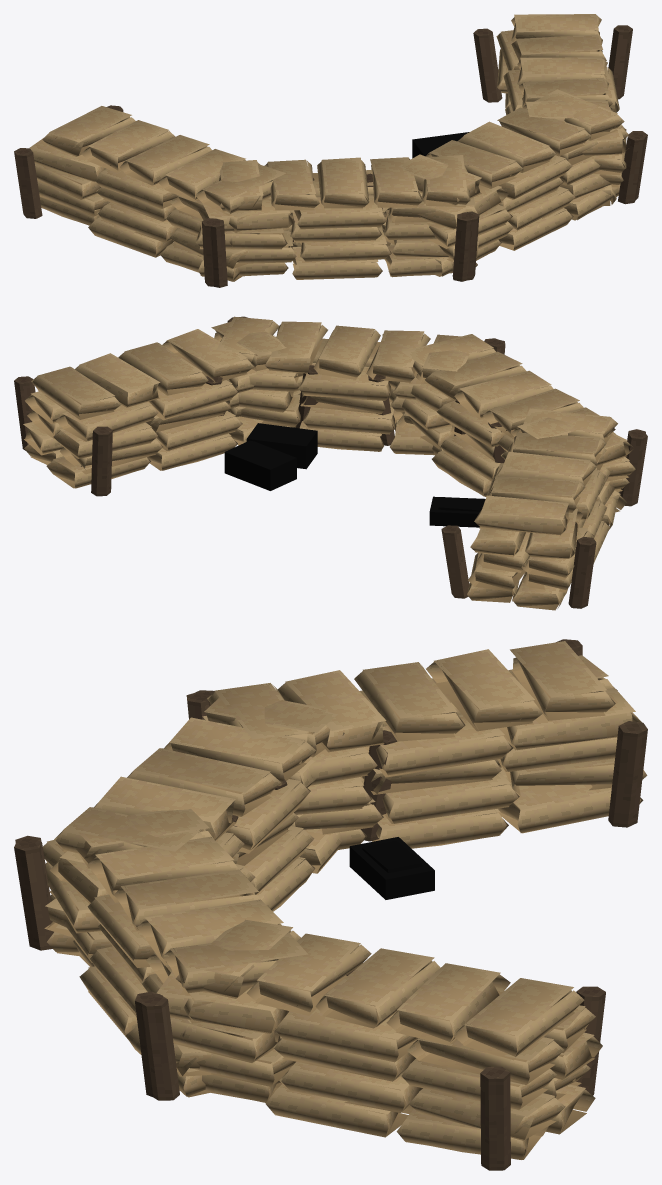
Rendered from mg_nest_sandbag.glb.
3 views of the same model, one above another, from view 1: azimuth 30°, elevation 25°; view 2: azimuth 150°, elevation 25°; view 3: azimuth 270°, elevation 25° (orthographic). The views are drawn at different scales.
Visible parts, largest first — view 1: mg_nest_sandbag-col; view 2: mg_nest_sandbag-col; view 3: mg_nest_sandbag-col.
Boxes of the visible parts, x1,y1,x2,y2 form: mg_nest_sandbag-col: [14, 14, 647, 287]; mg_nest_sandbag-col: [14, 316, 647, 610]; mg_nest_sandbag-col: [14, 639, 647, 1170].
Size of the model in its own units: 5.01 by 0.652 by 3.05.
Materials: 3 (1 with a texture image).
